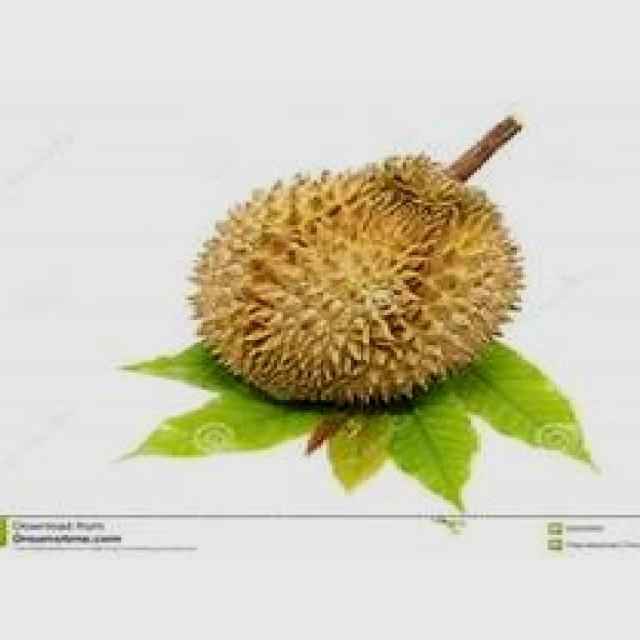agrume: (172, 128, 544, 420)
